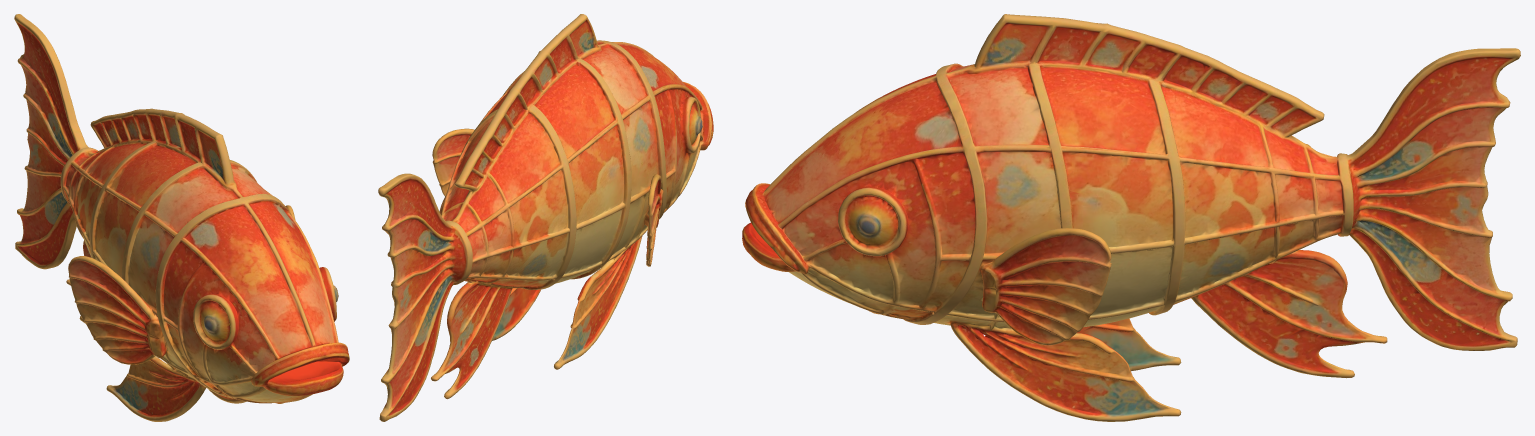
Rendered from 石斑鱼灯50000.glb.
3 renders of one model, left to right at view 1: azimuth 30°, elevation 25°; view 2: azimuth 150°, elevation 25°; view 3: azimuth 270°, elevation 25°, orthographic. The views are drawn at different scales.
Visible parts, largest first — view 1: tripo_node_8df20bb5-4251-4b3d-8460-dcde123107ab; view 2: tripo_node_8df20bb5-4251-4b3d-8460-dcde123107ab; view 3: tripo_node_8df20bb5-4251-4b3d-8460-dcde123107ab.
Boxes of the visible parts, <box> form: tripo_node_8df20bb5-4251-4b3d-8460-dcde123107ab: <box>14,14,349,421</box>; tripo_node_8df20bb5-4251-4b3d-8460-dcde123107ab: <box>378,14,713,421</box>; tripo_node_8df20bb5-4251-4b3d-8460-dcde123107ab: <box>742,14,1520,421</box>.
Bounding box in the file's own units: 0.4144 × 0.5417 × 1.
Materials: 1 (1 with a texture image).
